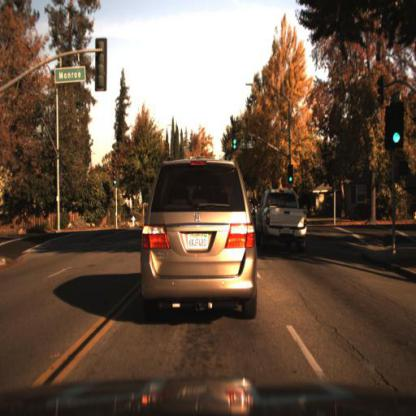car: (138, 155, 260, 317), (259, 188, 307, 252)
trafficLight: (229, 128, 237, 153)
trafficLight-Green: (386, 98, 405, 150), (286, 162, 296, 187)
trafficLight-GreenLeft: (111, 167, 118, 190)
